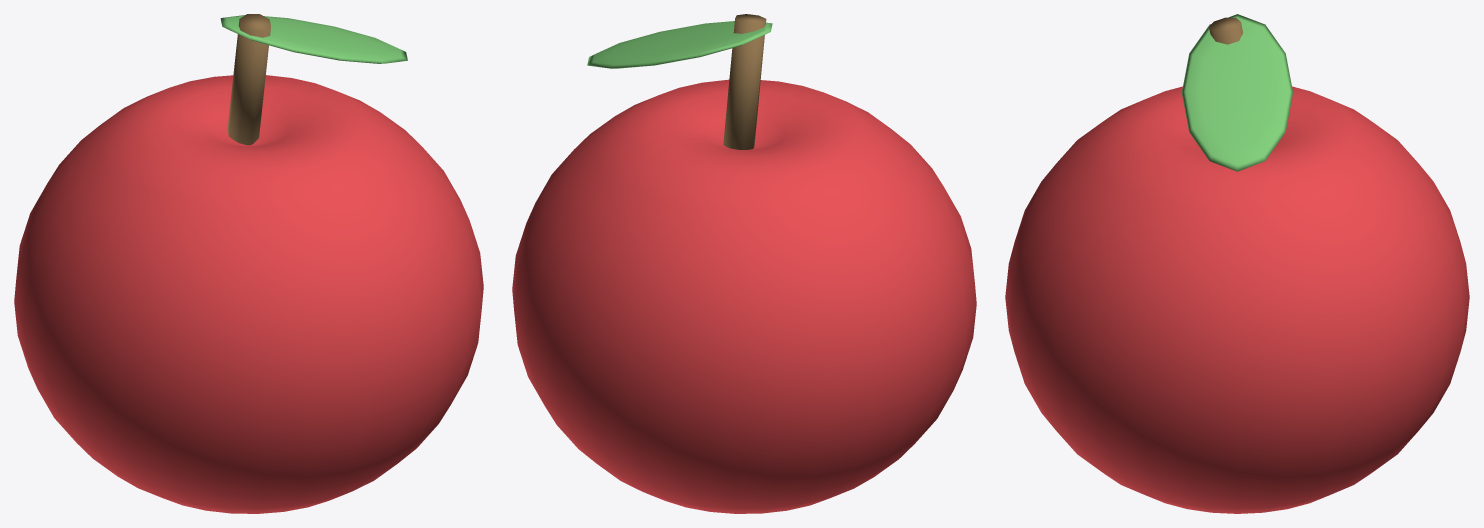
File: apple.glb
3 views of the same model, side by side, from view 1: azimuth 30°, elevation 25°; view 2: azimuth 150°, elevation 25°; view 3: azimuth 270°, elevation 25° (orthographic).
Visible parts, largest first — view 1: apple; view 2: apple; view 3: apple.
Part boxes in pixels (x1,y1,x2,y2): apple: (14,14,483,513); apple: (512,14,976,513); apple: (1005,14,1469,513).
Size of the model in its own units: 0.9394 by 0.9972 by 0.9394.
